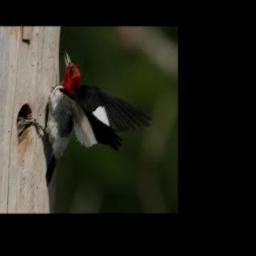Woodpecker: (18, 51, 150, 186)
